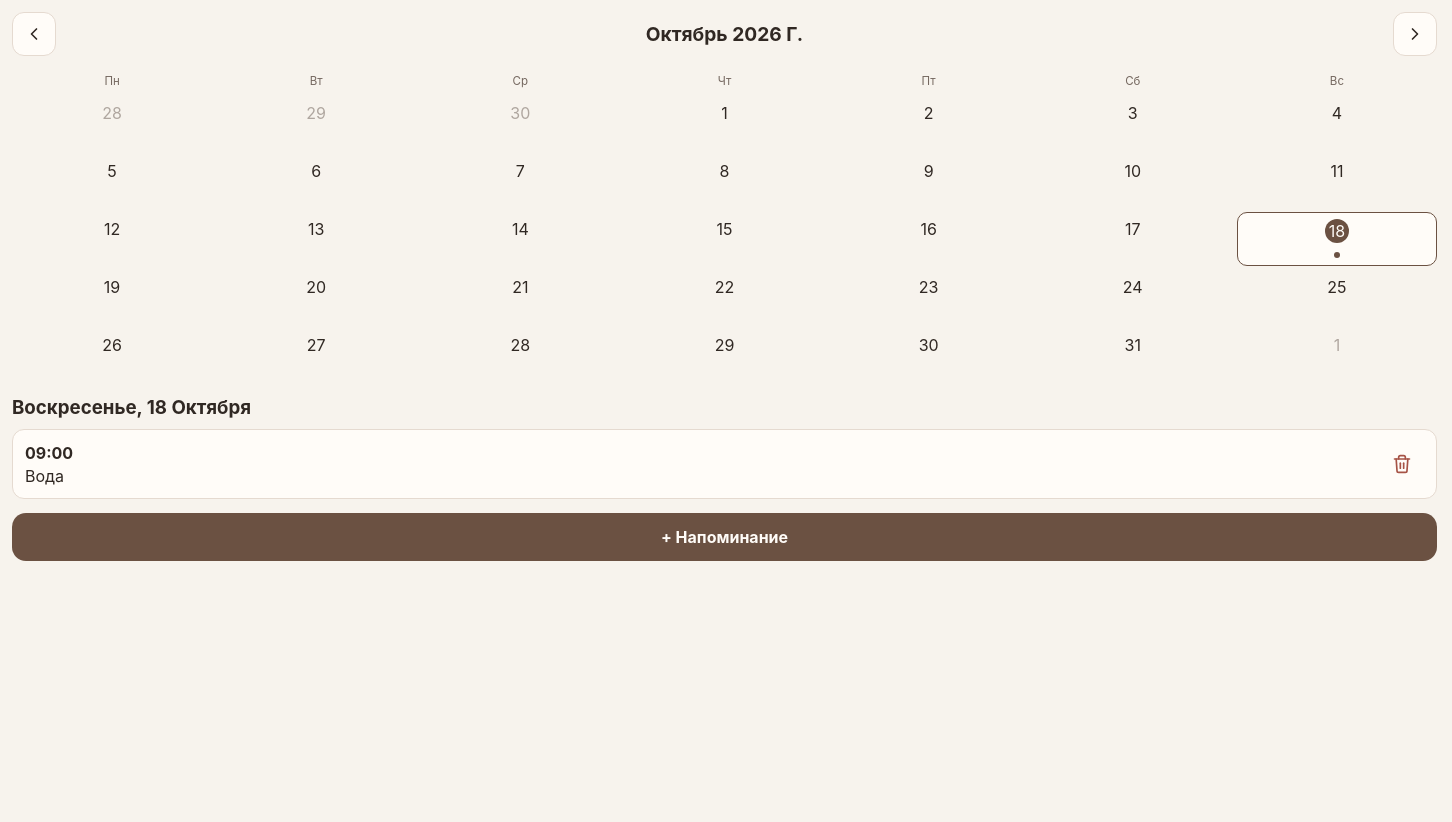
Test: CalendarScreen › refreshes after mutation 401 without replaying the mutation
Click the button named "Отменить напоминание" at (1402, 464), box [1380,442,1424,486]
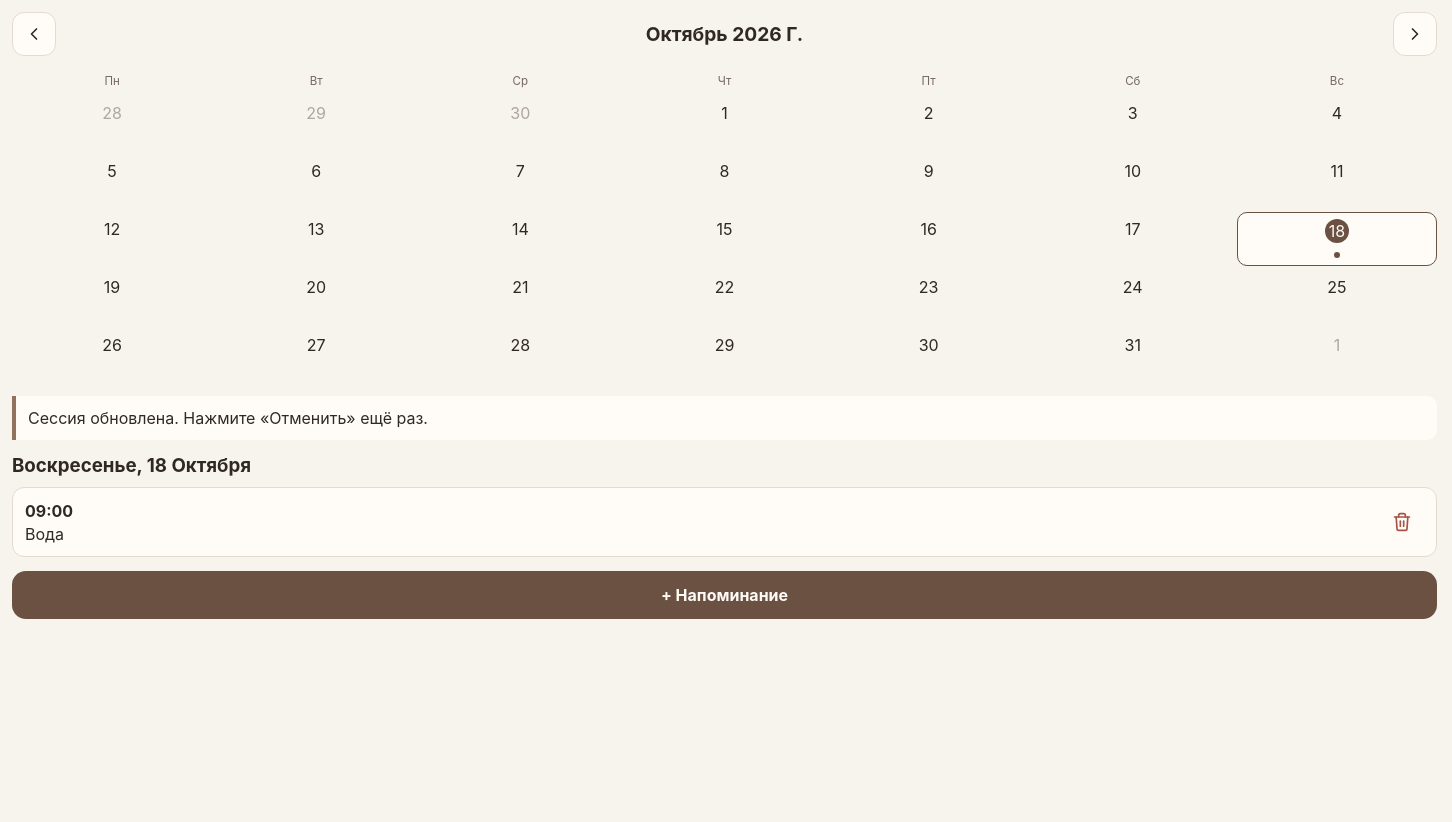
Expected: the text "Нажмите «Отменить» ещё раз" is shown, [28,408,428,428]
